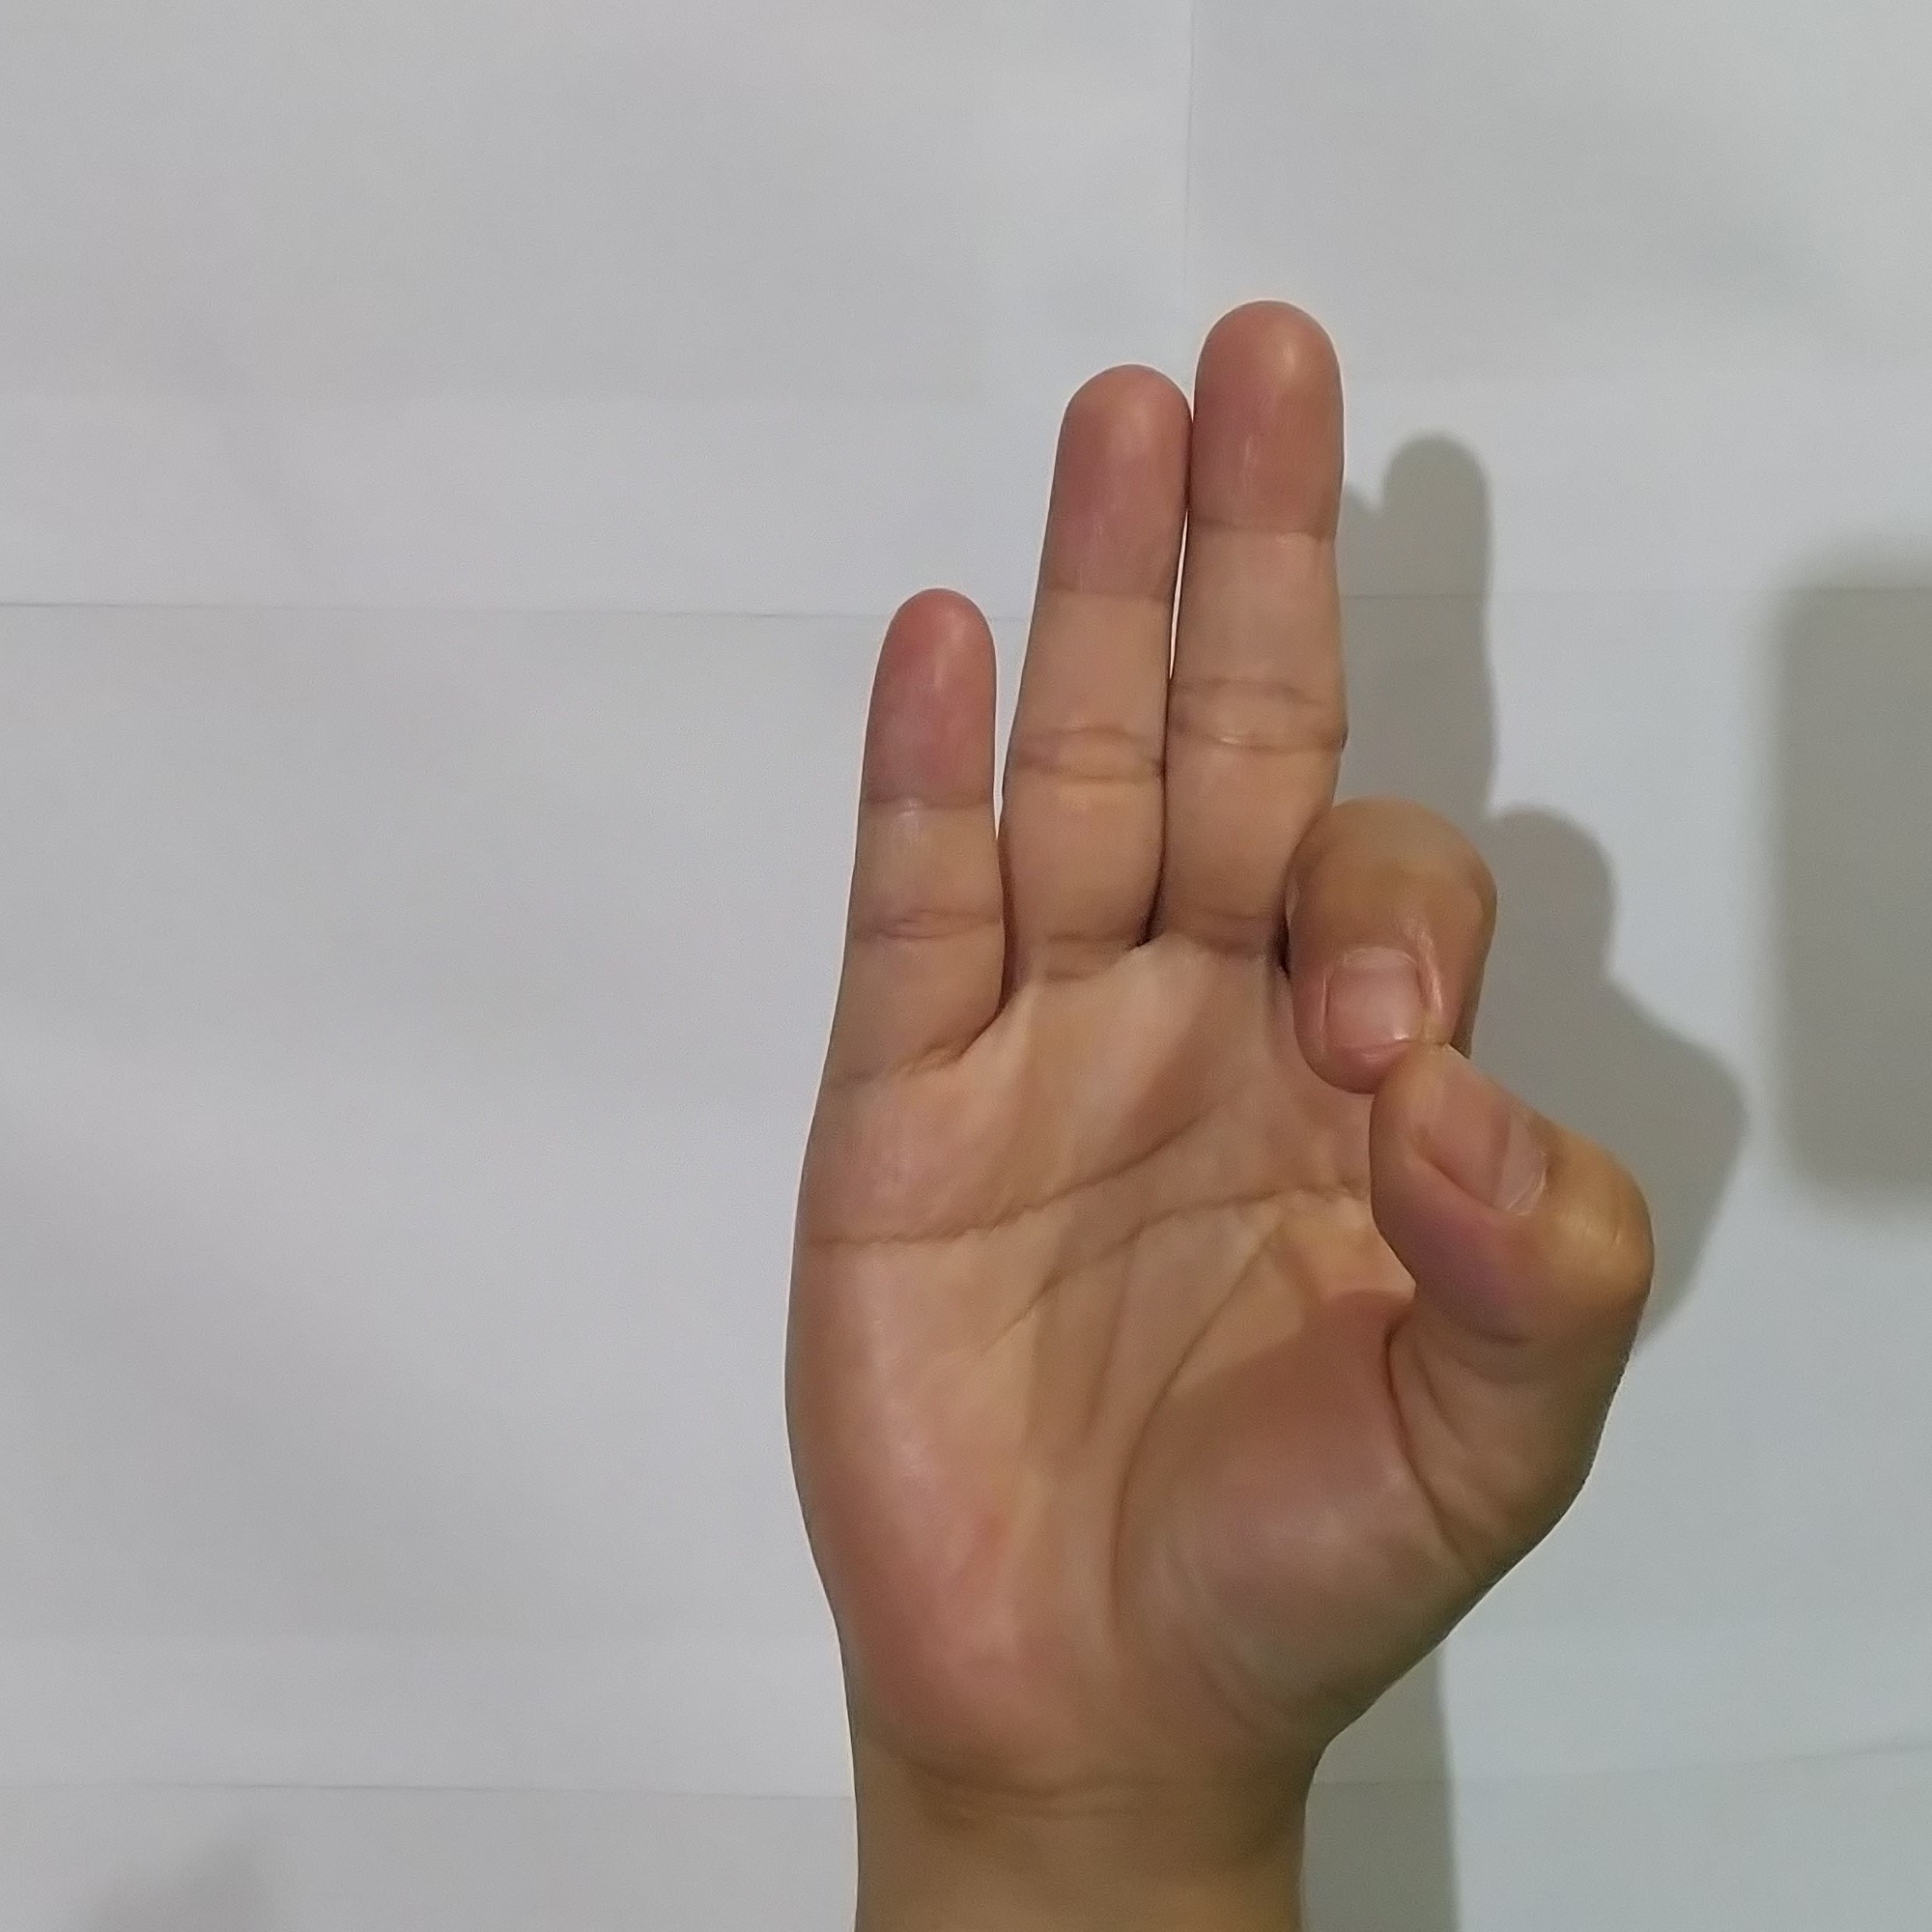F: (750, 272, 1675, 1782)
